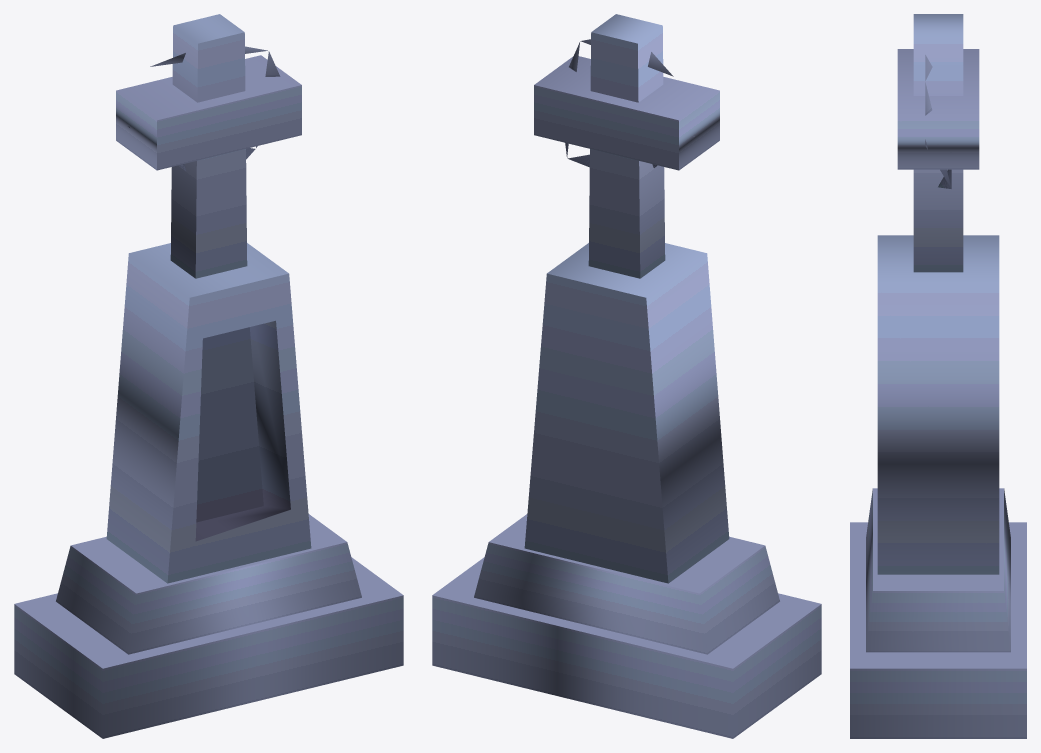
Rendered from gravestone-cross.glb.
3 renders of one model, left to right at view 1: azimuth 30°, elevation 25°; view 2: azimuth 150°, elevation 25°; view 3: azimuth 270°, elevation 25°, orthographic.
Visible parts, largest first — view 1: gravestone-cross; view 2: gravestone-cross; view 3: gravestone-cross.
Part boxes in pixels (x1,y1,x2,y2): gravestone-cross: (14,14,403,738); gravestone-cross: (432,14,821,738); gravestone-cross: (850,14,1026,738).
Bounding box in the file's own units: 0.4494 × 0.915 × 0.2292.
Materials: 1 (1 with a texture image).
